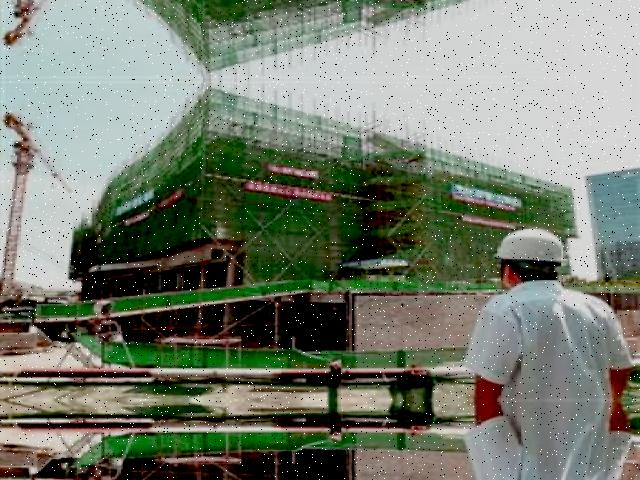Helmet: (489, 224, 569, 268)
